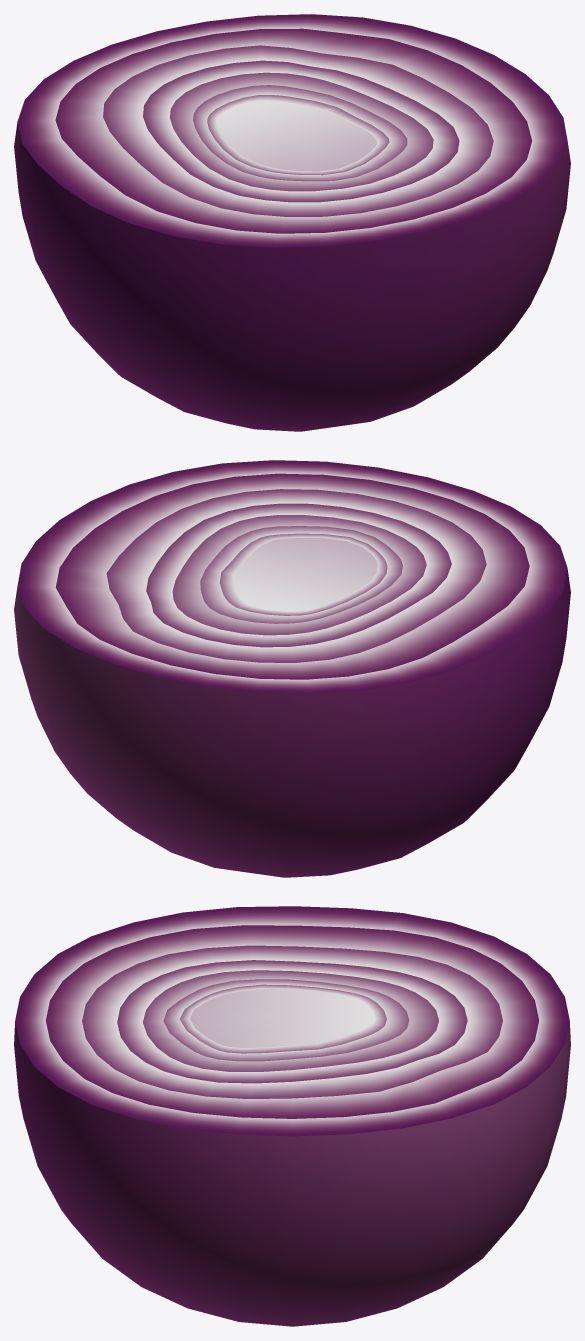
The model's file is Onion.fbx.
The picture shows the model from 3 angles, top to bottom: view 1: azimuth 30°, elevation 25°; view 2: azimuth 150°, elevation 25°; view 3: azimuth 270°, elevation 25°; orthographic projection.
Parts seen in each view (by area): view 1: Cube.001; view 2: Cube.001; view 3: Cube.001.
Boxes of the visible parts, x1,y1,x2,y2 form: Cube.001: (14, 14, 570, 431); Cube.001: (14, 460, 570, 877); Cube.001: (14, 906, 570, 1326).
Bounding box in the file's own units: 76.03 × 41.81 × 76.23.
